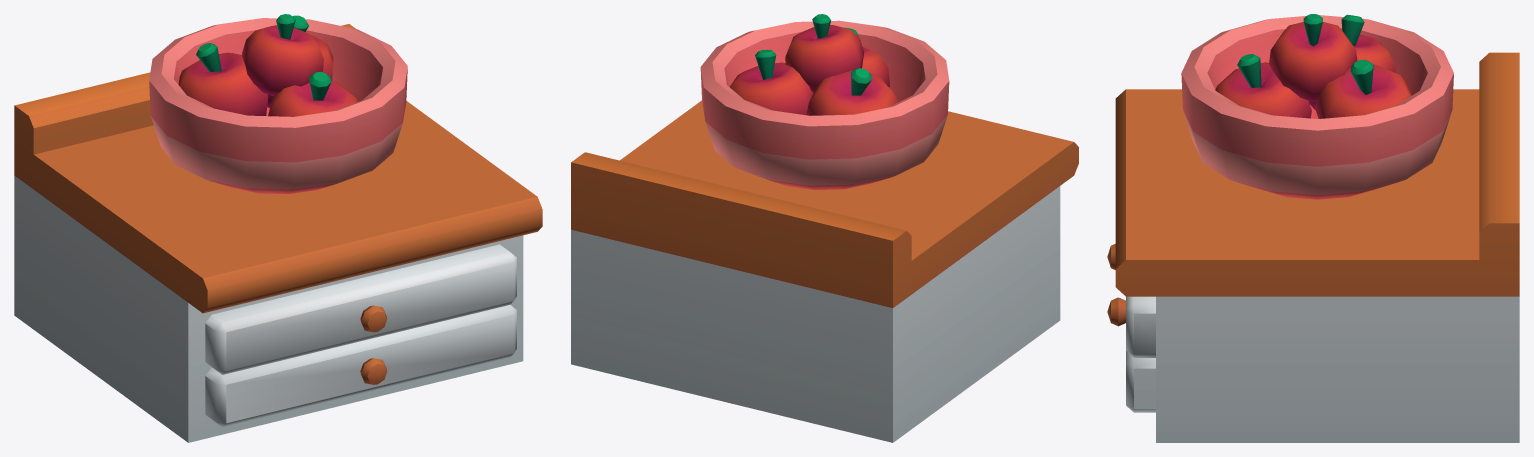
Rendered from cherry_counter.glb.
3 renders of one model, left to right at view 1: azimuth 30°, elevation 25°; view 2: azimuth 150°, elevation 25°; view 3: azimuth 270°, elevation 25°, orthographic. The views are drawn at different scales.
Parts seen in each view (by area): view 1: kitchencounter_straight_A_backsplash, icecream_bowl_cherries; view 2: kitchencounter_straight_A_backsplash, icecream_bowl_cherries; view 3: kitchencounter_straight_A_backsplash, icecream_bowl_cherries.
Part boxes in pixels (<box>): kitchencounter_straight_A_backsplash: <box>14,24,542,442</box>; icecream_bowl_cherries: <box>149,14,407,194</box>; kitchencounter_straight_A_backsplash: <box>571,100,1078,442</box>; icecream_bowl_cherries: <box>700,14,949,189</box>; kitchencounter_straight_A_backsplash: <box>1107,52,1519,442</box>; icecream_bowl_cherries: <box>1181,14,1453,199</box>.
Size of the model in its own units: 2 by 1.88 by 2.04.
Materials: 1 (1 with a texture image).
